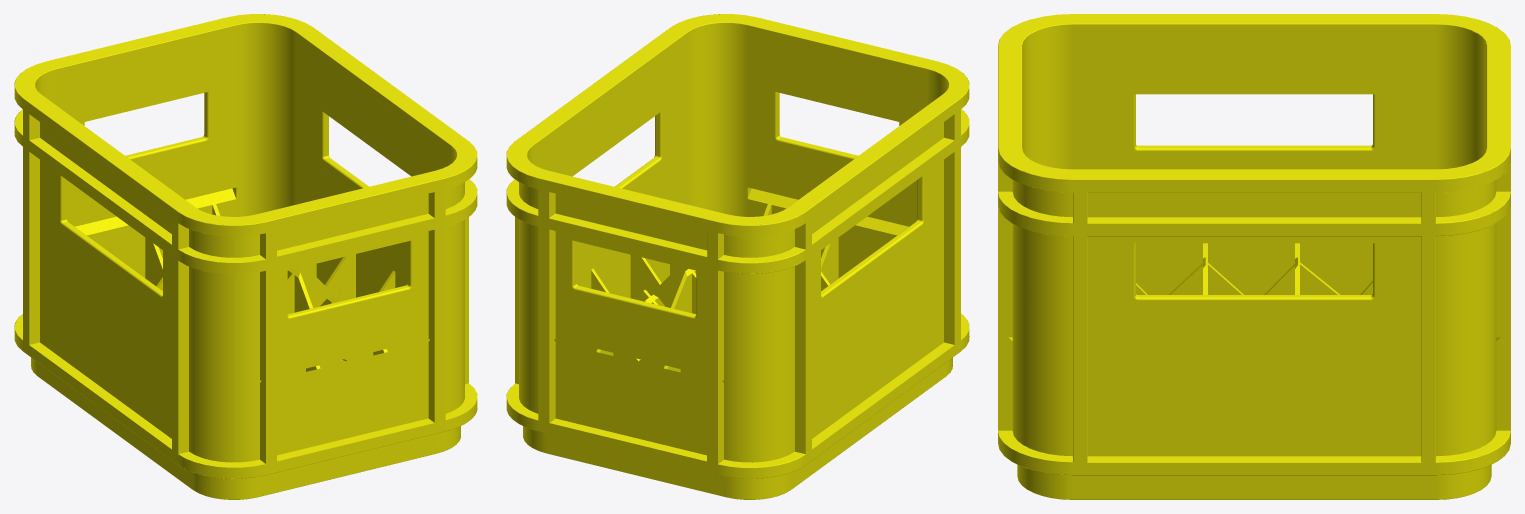
File: krat.glb
3 views of the same model, side by side, from view 1: azimuth 30°, elevation 25°; view 2: azimuth 150°, elevation 25°; view 3: azimuth 270°, elevation 25° (orthographic). The views are drawn at different scales.
Parts seen in each view (by area): view 1: -DC_Brep; view 2: -DC_Brep; view 3: -DC_Brep.
Boxes of the visible parts, x1,y1,x2,y2 form: -DC_Brep: (14,14,477,499); -DC_Brep: (506,14,969,499); -DC_Brep: (998,14,1510,499).
Size of the model in its own units: 324 by 300 by 424.
